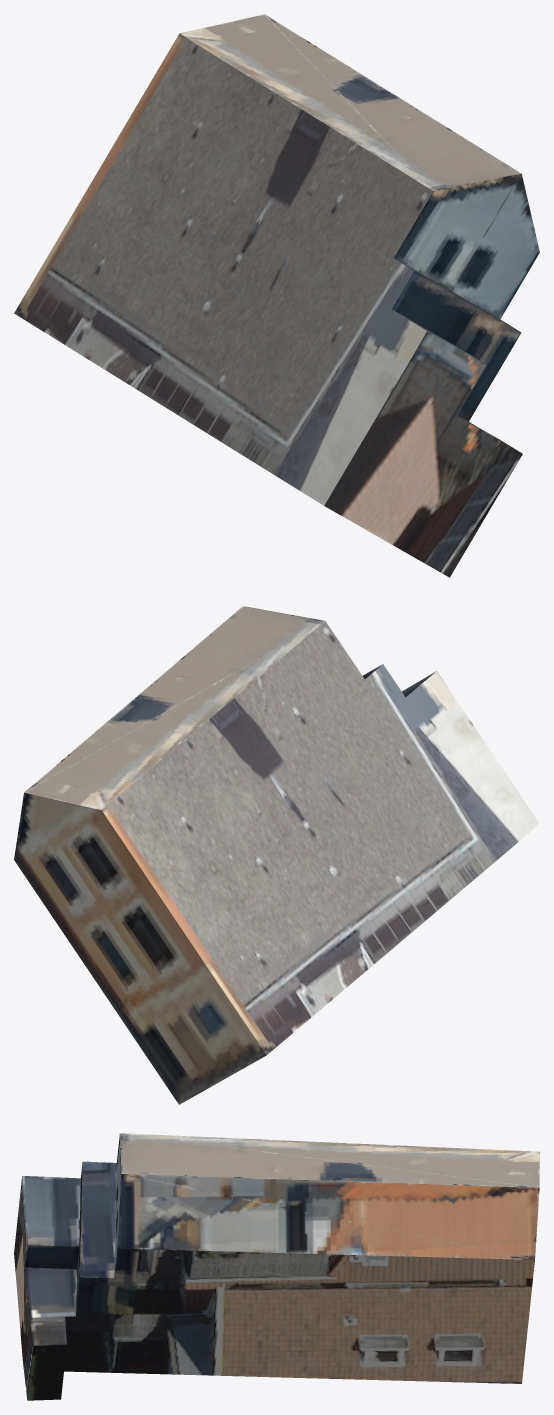
3 renders of one model, top to bottom at view 1: azimuth 30°, elevation 25°; view 2: azimuth 150°, elevation 25°; view 3: azimuth 270°, elevation 25°, orthographic. The views are drawn at different scales.
Parts seen in each view (by area): view 1: BAG_0599100000760476 (×4); view 2: BAG_0599100000760476 (×2); view 3: BAG_0599100000760476 (×6).
Boxes of the visible parts, x1,y1,x2,y2 form: BAG_0599100000760476 (×4): [14, 14, 539, 577]; BAG_0599100000760476 (×2): [14, 606, 539, 1104]; BAG_0599100000760476 (×6): [14, 1133, 539, 1400].
Size of the model in its own units: 9.82 by 11.18 by 18.81.
Materials: 1 (1 with a texture image).
